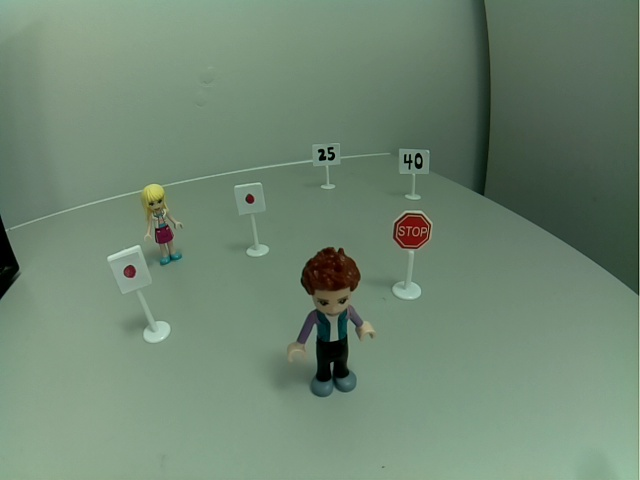people: (283, 243, 377, 399), (138, 184, 188, 268)
red light: (105, 246, 155, 296), (232, 181, 267, 218)
speed 25: (311, 142, 343, 168)
speed 40: (397, 147, 430, 176)
stop: (391, 207, 433, 254)
